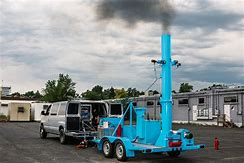smoke: (95, 1, 176, 31)
